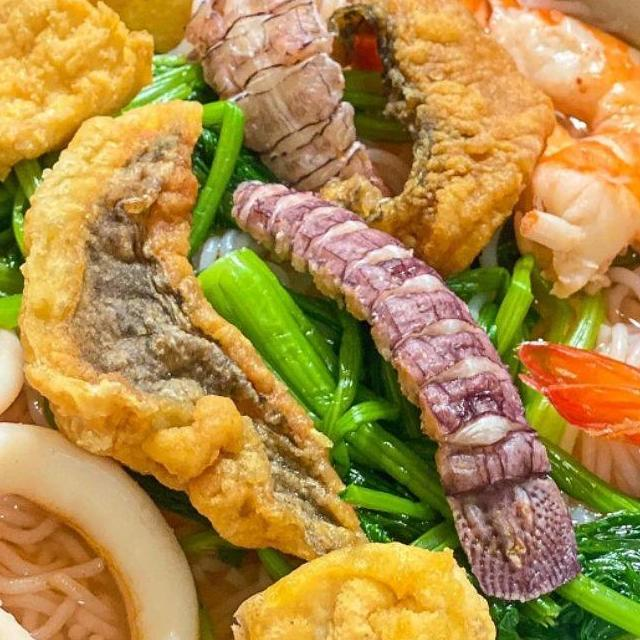bun: (0, 484, 142, 640), (553, 255, 640, 389), (542, 411, 640, 516), (482, 580, 640, 640), (312, 0, 450, 29)
bun hai san: (0, 0, 640, 640)
ca: (10, 94, 379, 567), (313, 0, 564, 284)
dau hu: (0, 0, 163, 188), (224, 536, 504, 640), (0, 0, 222, 71)
muc: (0, 412, 209, 640)
tom: (504, 123, 640, 461), (462, 0, 640, 229)
tom tit: (219, 174, 587, 609), (178, 0, 408, 242)
